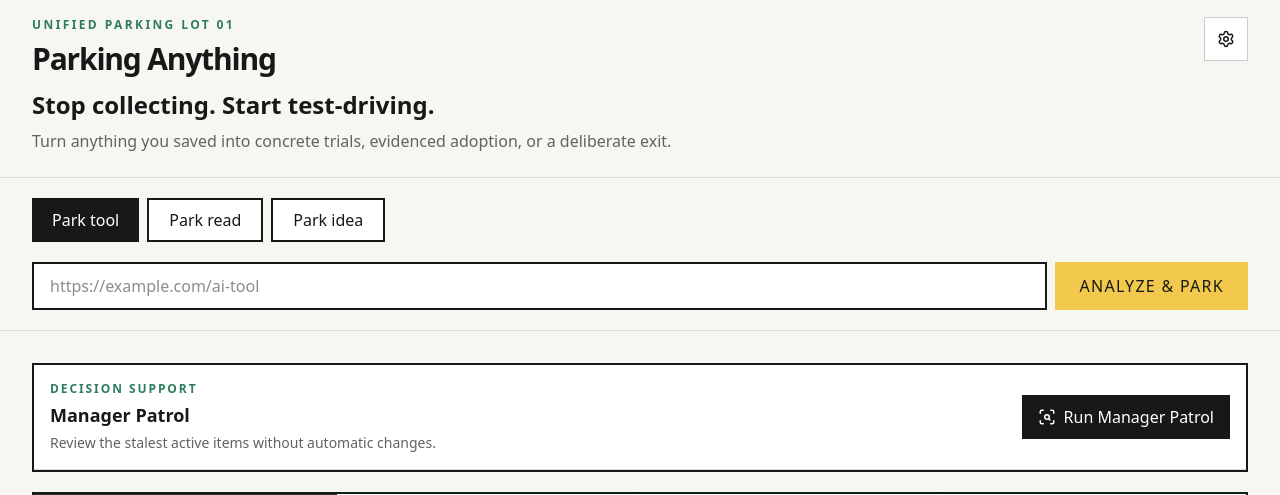
Test: ParkingApp live analysis › shows the submitted URL while loading and blocks duplicate submissions
The width and height of the screenshot is (1280, 495).
Type "https://example.com/tool" into the field named "AI tool URL".
click(540, 286); type("https://example.com/tool")  # box [32,262,1048,310]
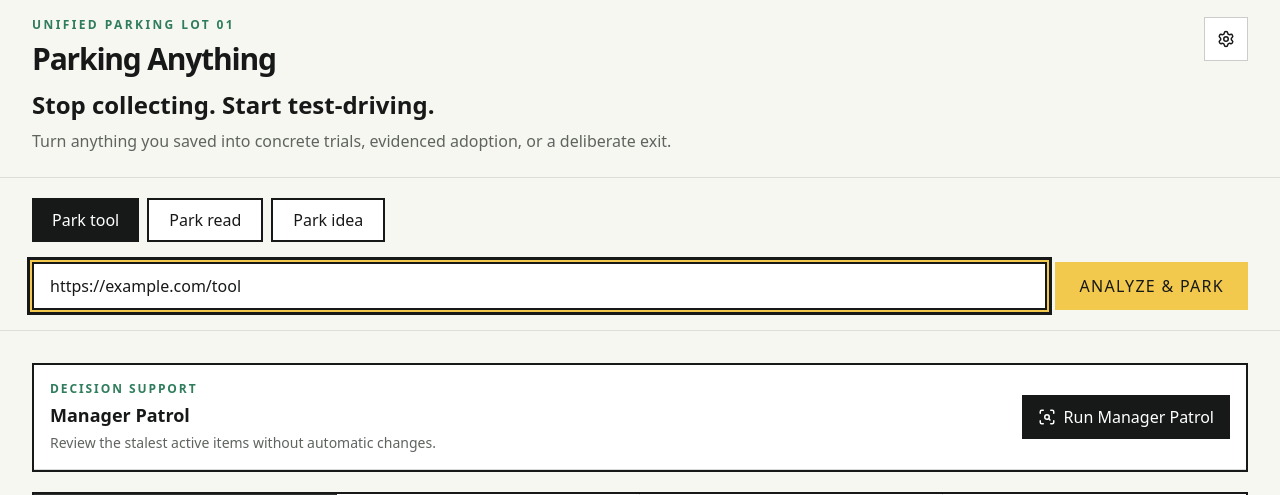
Click the button "Analyze & Park".
click(1152, 286)  # box [1056,262,1248,310]
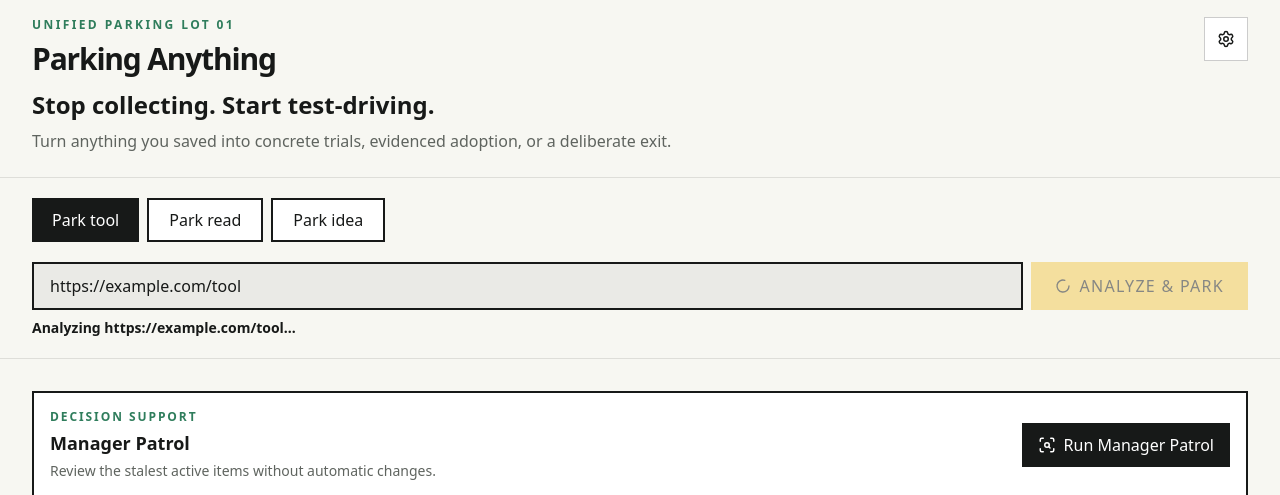
Expected: the text "Analyzing https://example.com/tool…" is shown, [32,318,296,337]
Expected: the field named "AI tool URL" is disabled, [32,262,1024,310]
Expected: the button "Analyze & Park" is disabled
Click the button "Analyze & Park".
click(1140, 286)  # box [1032,262,1248,310]
(page scrolled)
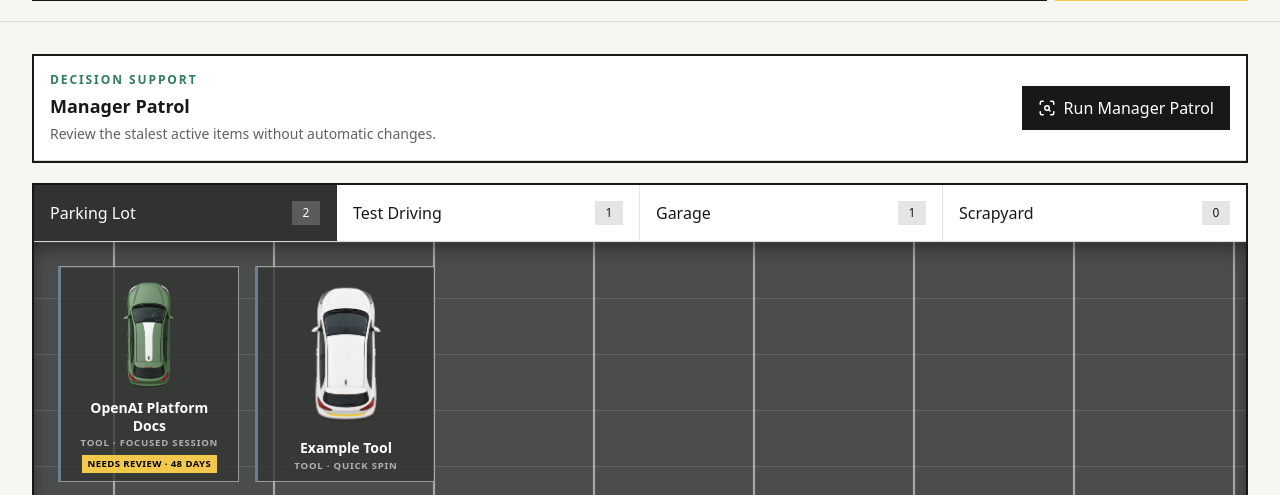
Expected: the button with aria-label "Example Tool, Parked" is shown, [255,266,435,482]
